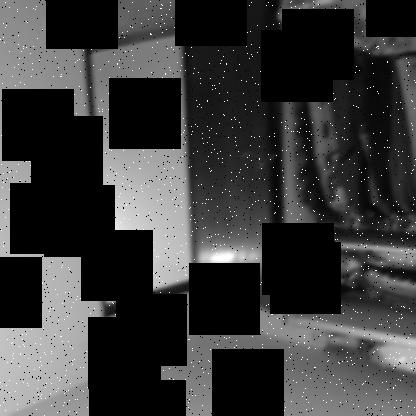Porte: (80, 1, 280, 323)
